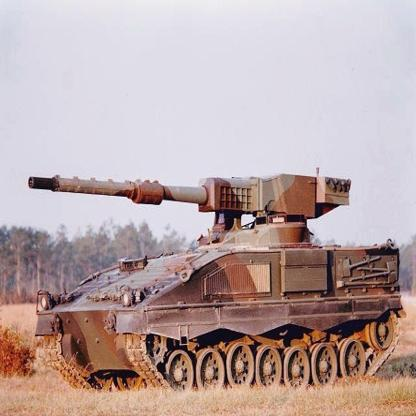Tank: (20, 161, 406, 394)
